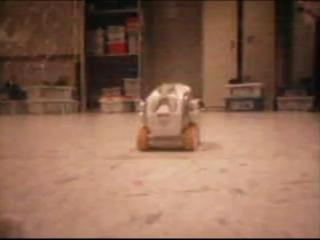cozmo: (135, 82, 203, 152)
